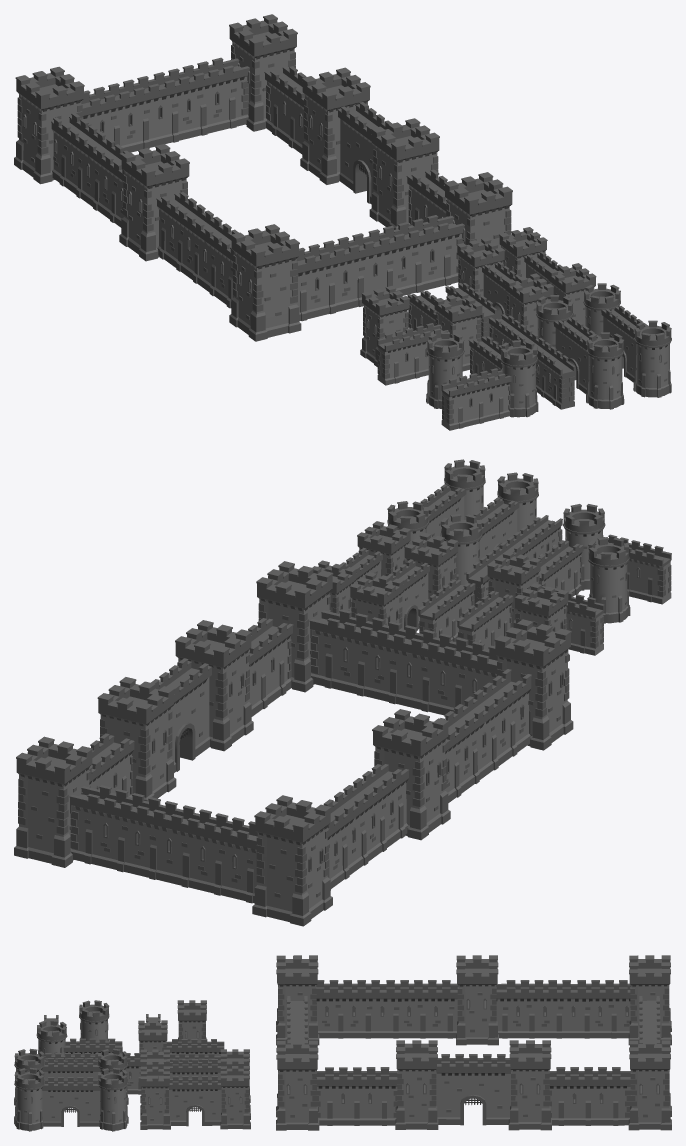
The model's file is SimplePolygon_CastleKit.fbx.
The picture shows the model from 3 angles, top to bottom: view 1: azimuth 30°, elevation 25°; view 2: azimuth 150°, elevation 25°; view 3: azimuth 270°, elevation 25°; orthographic projection. The views are drawn at different scales.
Parts seen in each view (by area): view 1: PreviewOnly, Corer_2, Corner_1, Gate_2_Open, Gate_2, Gate_1_Open, Gate_1, Wall_Double, Tower_1, Tower_2, Wall_Single; view 2: PreviewOnly, Corer_2, Corner_1, Gate_1_Open, Gate_2_Open, Gate_2, Gate_1, Tower_2, Wall_Double, Wall_Single, Tower_1; view 3: PreviewOnly, Gate_2, Gate_1, Gate_2_Open, Gate_1_Open, Corner_1, Corer_2, Tower_1, Tower_2, Wall_Double, Wall_Single.
Part boxes in pixels (box(x1,y1,x2,y2)): PreviewOnly: box(14, 14, 512, 341); Corer_2: box(441, 336, 538, 430); Corner_1: box(377, 290, 482, 385); Gate_2_Open: box(536, 295, 624, 409); Gate_2: box(583, 283, 671, 397); Gate_1_Open: box(456, 237, 553, 334); Gate_1: box(499, 227, 596, 327); Wall_Double: box(488, 314, 575, 409); Tower_1: box(360, 285, 410, 366); Tower_2: box(426, 332, 464, 408); Wall_Single: box(445, 283, 496, 341); PreviewOnly: box(14, 561, 573, 926); Corer_2: box(538, 504, 671, 604); Corner_1: box(457, 551, 604, 655); Gate_1_Open: box(349, 532, 458, 630); Gate_2_Open: box(440, 472, 538, 585); Gate_2: box(387, 459, 485, 544); Gate_1: box(312, 521, 411, 616); Tower_2: box(588, 537, 630, 623); Wall_Double: box(466, 515, 562, 606); Wall_Single: box(418, 579, 475, 641); Tower_1: box(514, 583, 569, 661); PreviewOnly: box(276, 955, 671, 1130); Gate_2: box(14, 1067, 128, 1131); Gate_1: box(140, 1066, 250, 1129); Gate_2_Open: box(14, 1048, 128, 1105); Gate_1_Open: box(140, 1049, 250, 1112); Corner_1: box(138, 1014, 224, 1055); Corer_2: box(36, 1015, 122, 1055); Tower_1: box(177, 1000, 206, 1041); Tower_2: box(79, 1000, 109, 1041); Wall_Double: box(44, 1053, 141, 1094); Wall_Single: box(169, 1053, 220, 1061).
Size of the model in its own units: 5361 by 1718 by 14110.
